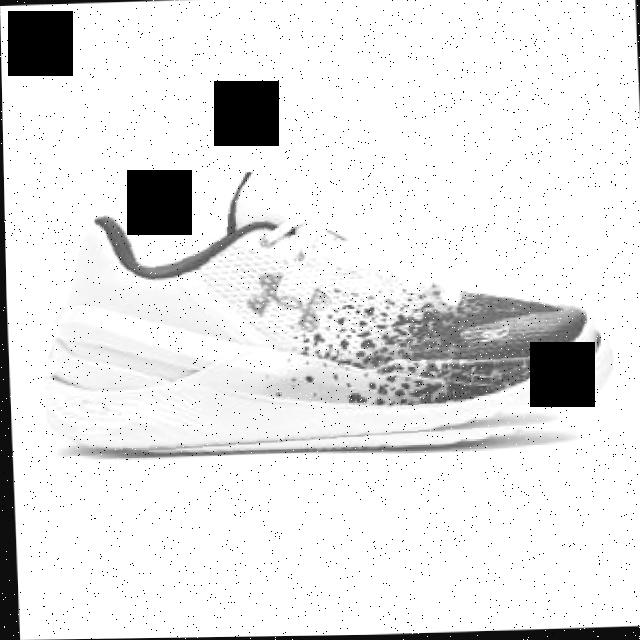shoe: (35, 162, 614, 459)
